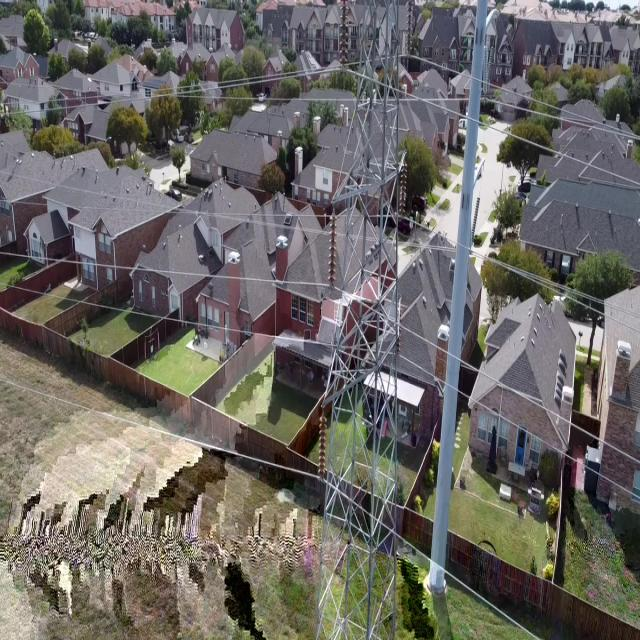杆塔: (310, 0, 411, 640)
正常绝缘子: (336, 0, 355, 89), (394, 160, 414, 244), (313, 404, 329, 491), (326, 208, 339, 296), (404, 0, 416, 61)
